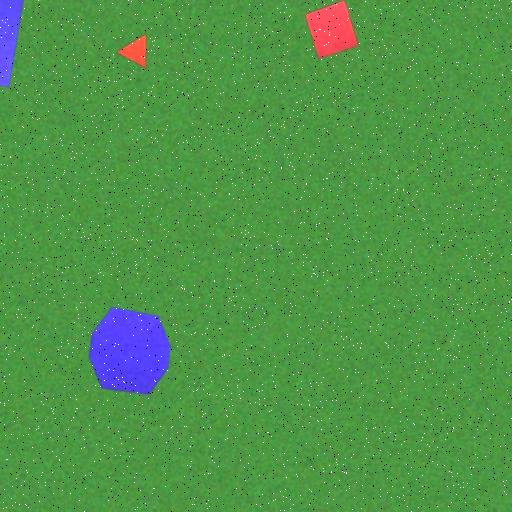RED_SQUARE: (304, 0, 360, 60)
